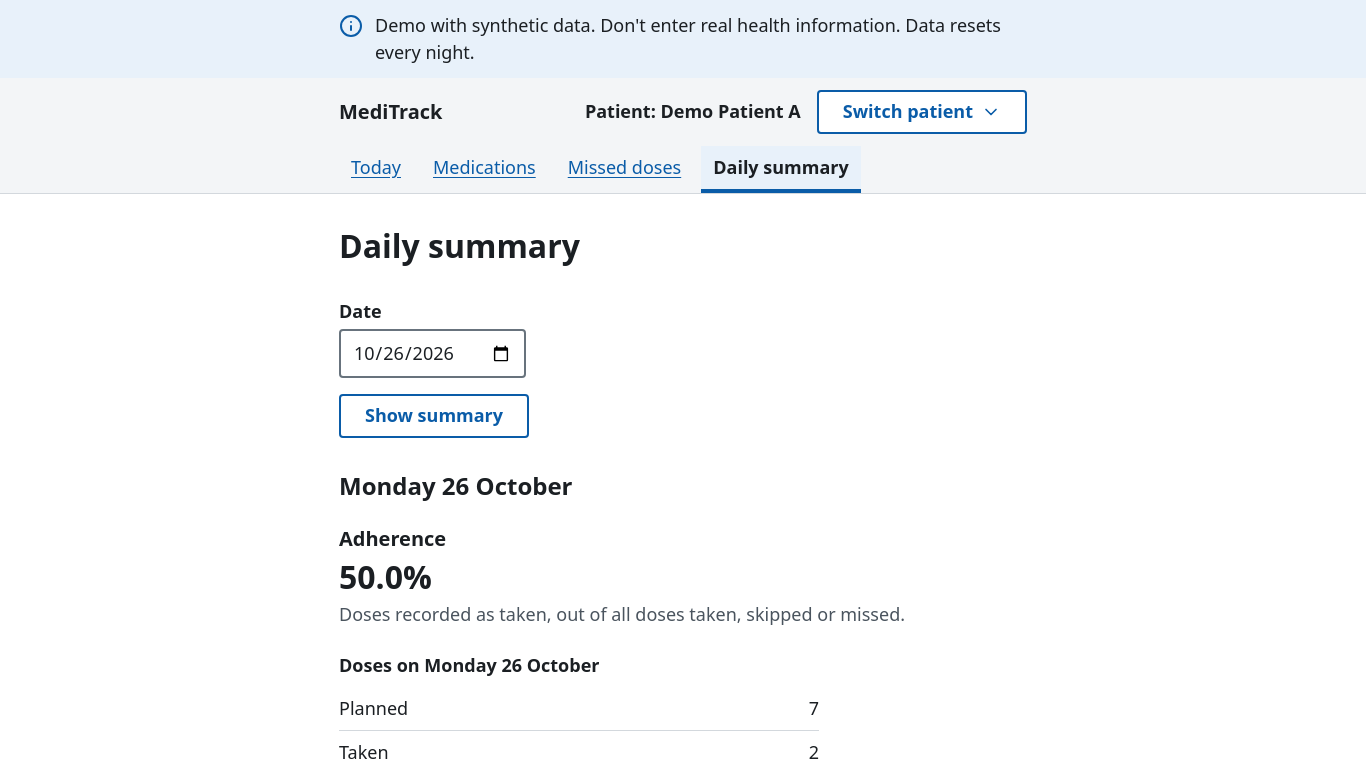
Daily summary page › says "No doses to score yet" when nothing has been taken, skipped or missed (AC-26)
Expected: the heading "Monday 26 October" is shown, top-left (339, 469), bottom-right (572, 502)
In the date field labelled "Date": (432, 354) top-left (339, 329), bottom-right (526, 378), type "2026-10-28"
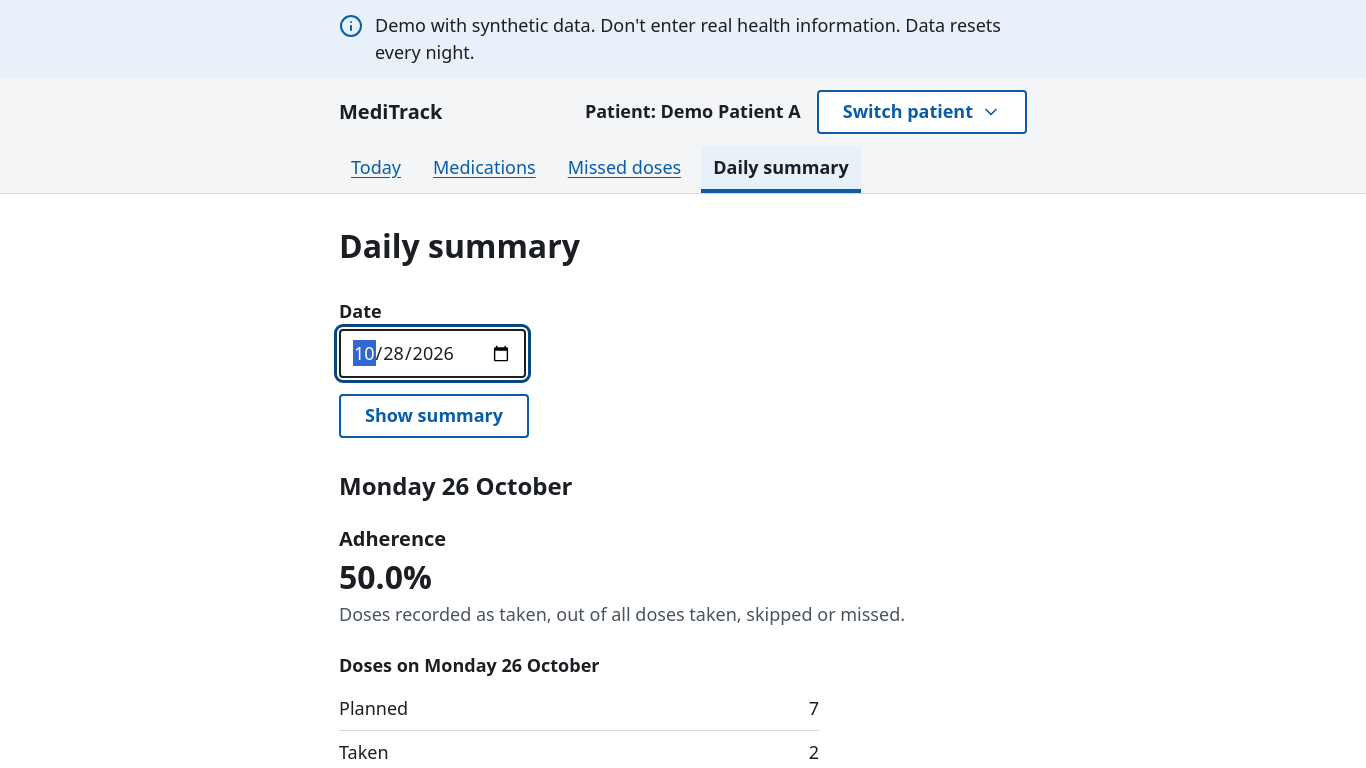
Click the button "Show summary": (434, 416) top-left (339, 394), bottom-right (529, 438)
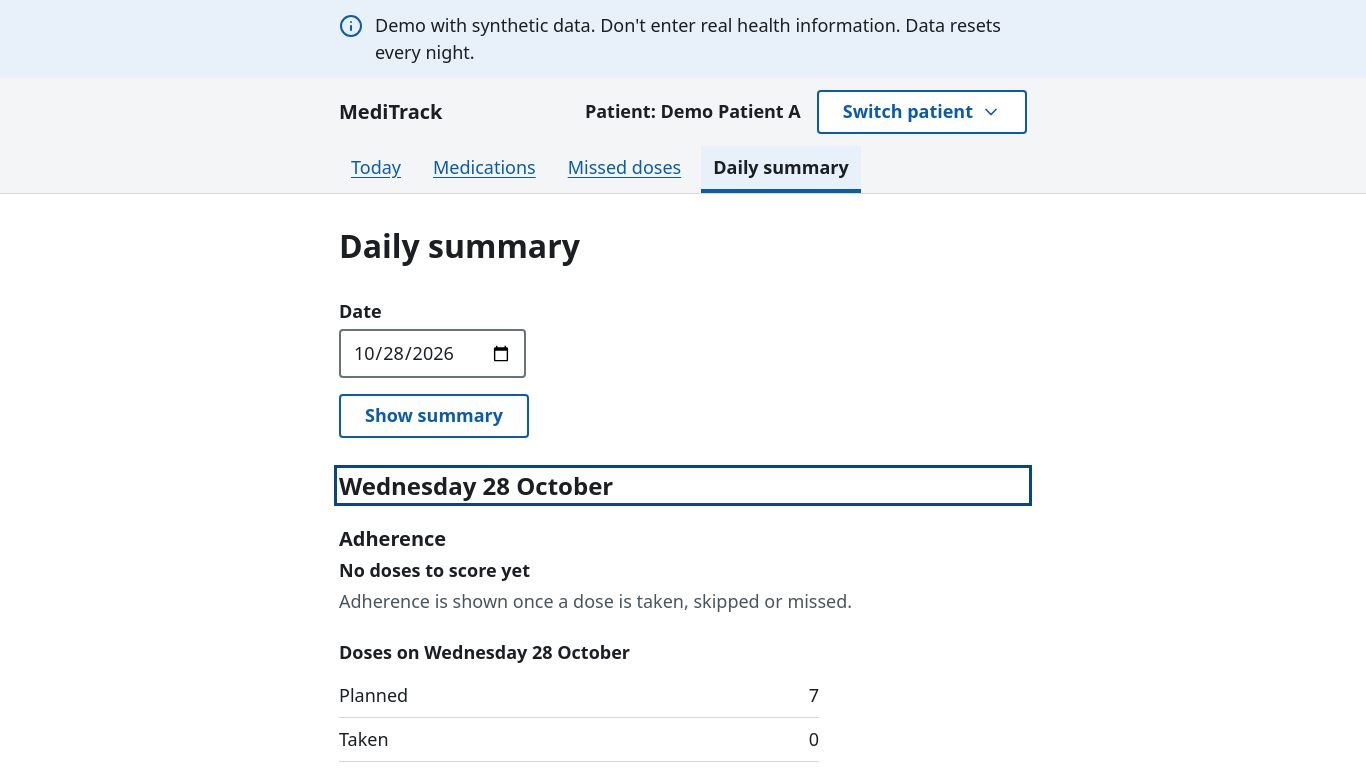
Now the text "No doses to score yet" is shown, box top-left (339, 558), bottom-right (530, 582)
Now the text "Adherence is shown once a dose is taken, skipped or missed." is shown, box top-left (339, 589), bottom-right (852, 613)
Now the text "%" is gone
